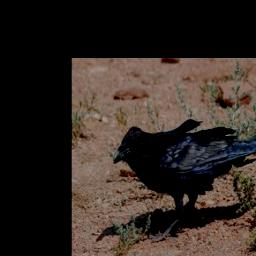Crow: (112, 118, 256, 244)
